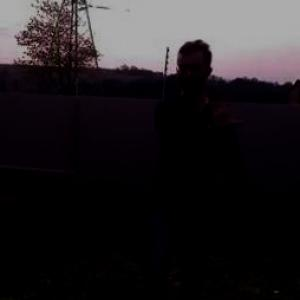follow_hand: (203, 86, 247, 131)
